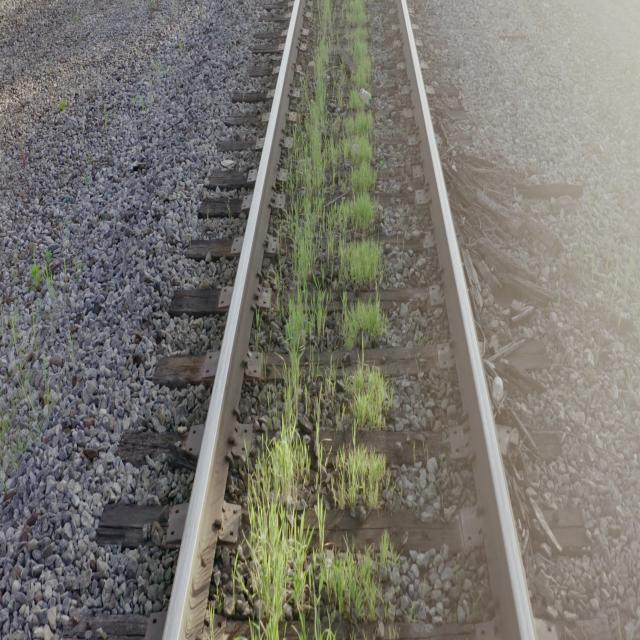Plant: (248, 0, 396, 640), (249, 449, 306, 640), (330, 442, 386, 509), (349, 358, 391, 429), (339, 298, 388, 349)
